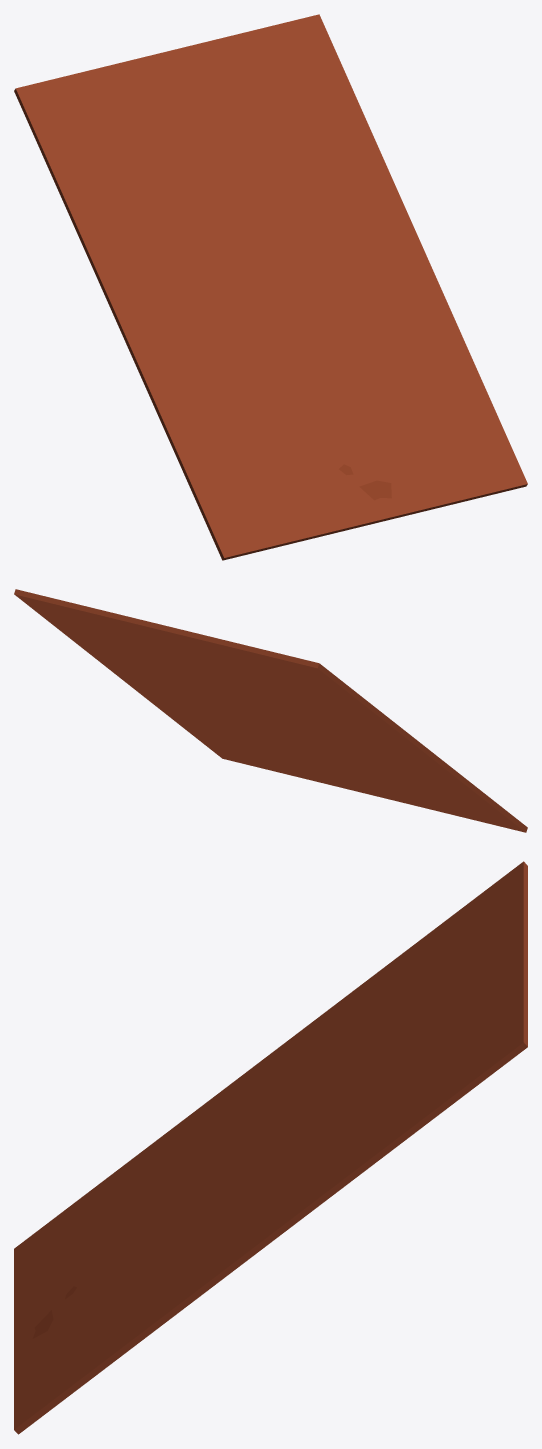
Rendered from Roof_07.fbx.
3 renders of one model, top to bottom at view 1: azimuth 30°, elevation 25°; view 2: azimuth 150°, elevation 25°; view 3: azimuth 270°, elevation 25°, orthographic. The views are drawn at different scales.
Visible parts, largest first — view 1: Roof_07_LOD0; view 2: Roof_07_LOD0; view 3: Roof_07_LOD0.
Boxes of the visible parts, x1,y1,x2,y2 form: Roof_07_LOD0: [14, 14, 527, 560]; Roof_07_LOD0: [14, 589, 527, 832]; Roof_07_LOD0: [14, 861, 527, 1434].
Size of what is drawn, in the model's own units: 500 by 505 by 600.
